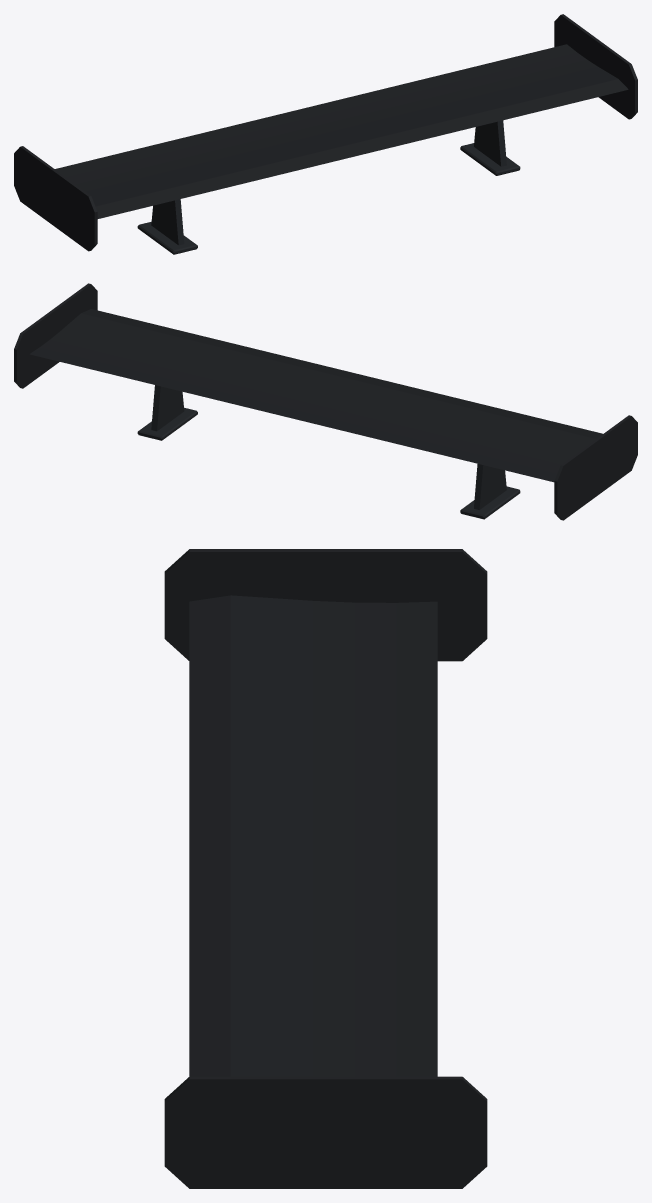
The model's file is vortex_r.glb.
3 renders of one model, top to bottom at view 1: azimuth 30°, elevation 25°; view 2: azimuth 150°, elevation 25°; view 3: azimuth 270°, elevation 25°, orthographic. The views are drawn at different scales.
Visible parts, largest first — view 1: wing_element, model; view 2: wing_element, model; view 3: wing_element.
Boxes of the visible parts, bbox=[...] form: wing_element: bbox=[14, 14, 637, 251]; model: bbox=[137, 120, 520, 254]; wing_element: bbox=[14, 283, 637, 520]; model: bbox=[137, 385, 520, 519]; wing_element: bbox=[164, 549, 487, 1188].
Bounding box in the file's own units: 1.52 × 0.246 × 0.39.
Materials: 2 (1 with a texture image).
